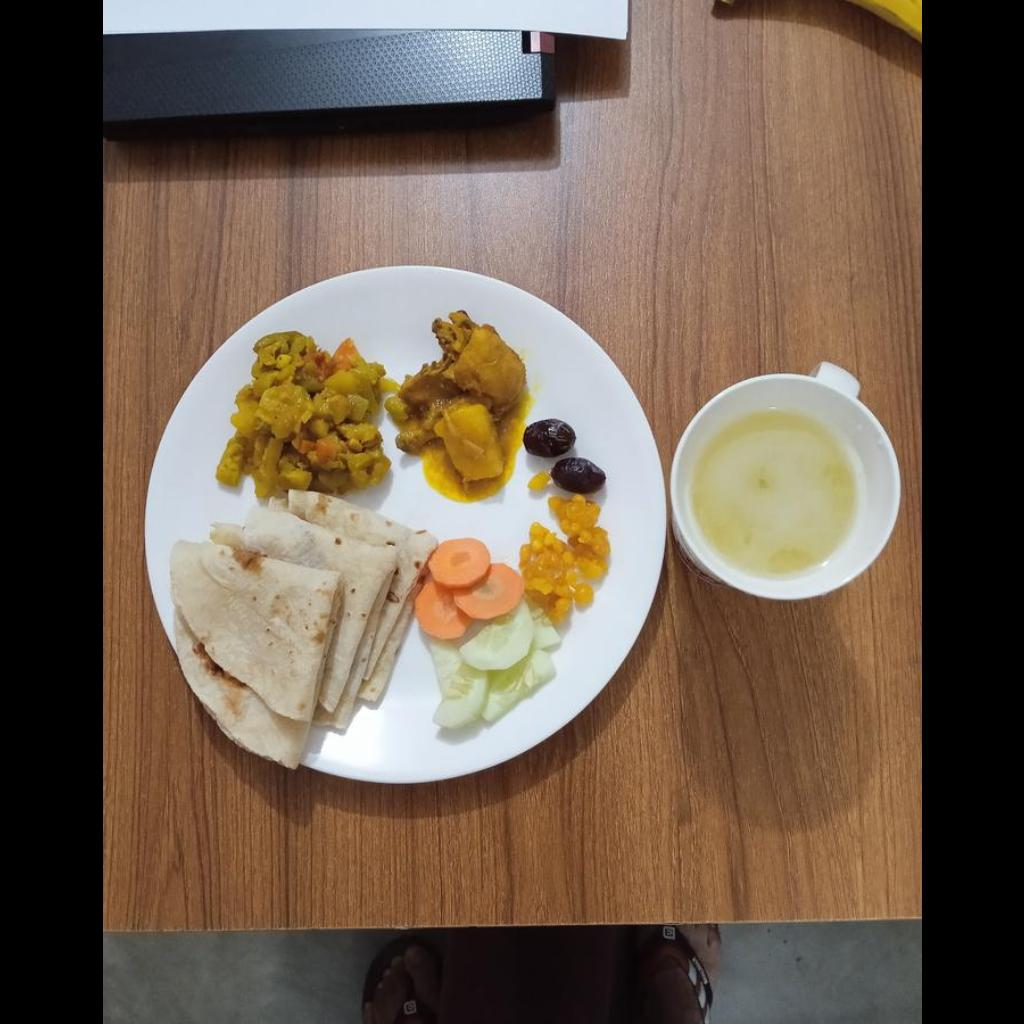burinda: (517, 495, 608, 619)
carrot: (414, 538, 520, 638)
chicken: (396, 315, 527, 494)
cucumber: (429, 602, 559, 729)
dates: (523, 419, 604, 495)
juice: (689, 412, 854, 578)
ruti: (167, 494, 432, 770)
vegetable: (219, 336, 389, 493)
